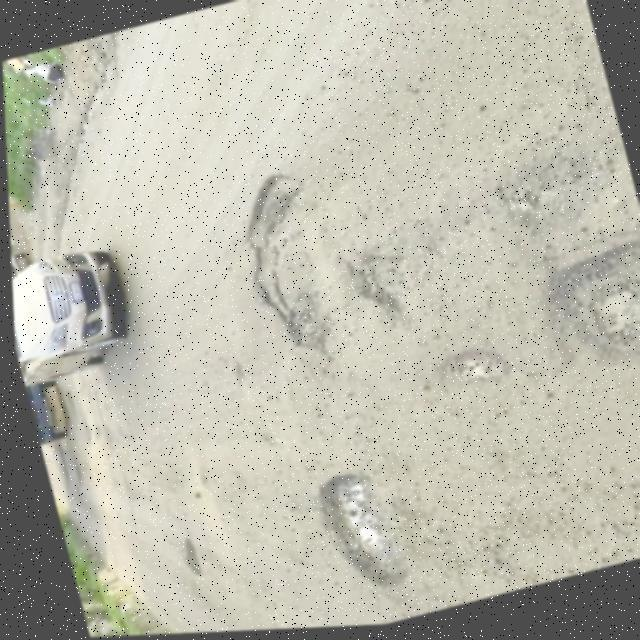pothole: (212, 160, 368, 373), (290, 457, 432, 610), (528, 240, 640, 384)
